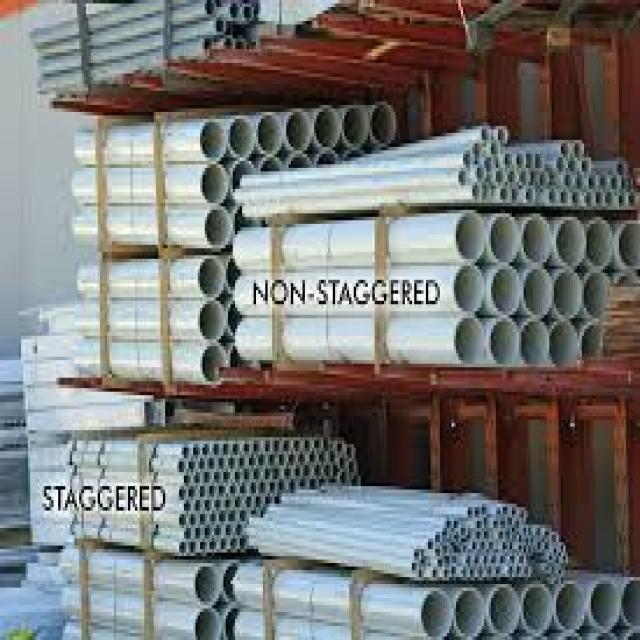pipe: (456, 211, 485, 260), (454, 266, 484, 313), (422, 591, 451, 639), (456, 318, 486, 364), (489, 216, 518, 263), (556, 219, 585, 265), (523, 216, 550, 265), (489, 318, 518, 363), (554, 270, 581, 318), (456, 590, 483, 638), (490, 587, 518, 633), (523, 586, 551, 632), (524, 269, 551, 316), (591, 582, 619, 627), (587, 219, 613, 267), (491, 268, 519, 312), (550, 325, 579, 366), (557, 585, 584, 629), (521, 321, 547, 365), (201, 162, 228, 203), (585, 274, 610, 318), (372, 103, 397, 144), (199, 300, 225, 339), (286, 110, 310, 152), (257, 114, 282, 154), (200, 121, 226, 159), (205, 207, 231, 245), (314, 108, 339, 147), (199, 256, 224, 295), (230, 117, 254, 157), (202, 343, 226, 383), (343, 106, 368, 143), (196, 565, 219, 605), (622, 579, 640, 626), (195, 610, 221, 640), (177, 512, 187, 530), (241, 6, 252, 21), (229, 4, 239, 20), (566, 159, 577, 173), (580, 158, 590, 173), (459, 168, 468, 184), (506, 169, 515, 185), (574, 175, 584, 189), (556, 157, 565, 172), (510, 187, 519, 202), (495, 171, 504, 186), (218, 509, 227, 524), (503, 154, 513, 167), (288, 452, 298, 465), (587, 173, 595, 189), (278, 452, 286, 468), (203, 38, 212, 52), (463, 151, 472, 165), (257, 453, 266, 467), (328, 451, 337, 465), (189, 513, 198, 527), (216, 20, 224, 35), (178, 487, 188, 499), (472, 143, 481, 156), (498, 127, 507, 140), (292, 439, 301, 452), (322, 437, 331, 450), (178, 540, 187, 553), (233, 523, 242, 536), (524, 189, 532, 203), (264, 438, 272, 452), (273, 438, 281, 452), (178, 459, 186, 473), (233, 469, 241, 483), (263, 467, 271, 481), (194, 527, 202, 541), (238, 508, 246, 522), (533, 154, 541, 168), (223, 38, 233, 49), (298, 453, 307, 465), (244, 496, 253, 508), (193, 443, 200, 458), (481, 127, 489, 140), (484, 157, 492, 170), (475, 167, 483, 180), (564, 175, 572, 188), (572, 192, 580, 205), (610, 177, 618, 190), (499, 189, 507, 202), (182, 444, 190, 457), (303, 438, 311, 451), (208, 457, 216, 470), (184, 500, 192, 513), (228, 509, 236, 522), (188, 485, 196, 498), (218, 484, 226, 497), (229, 484, 237, 497), (219, 538, 227, 551), (615, 162, 623, 175), (267, 481, 276, 492), (517, 172, 526, 183), (472, 184, 479, 198), (524, 154, 531, 168), (222, 442, 229, 456), (248, 454, 255, 468), (194, 471, 201, 485), (203, 470, 210, 484), (255, 494, 262, 508), (548, 190, 556, 202), (231, 442, 239, 454), (253, 441, 261, 453), (313, 438, 321, 450), (198, 458, 206, 470), (218, 458, 226, 470), (228, 458, 236, 470), (322, 464, 330, 476), (184, 528, 192, 540), (249, 481, 257, 493), (308, 477, 316, 489), (209, 539, 217, 551), (229, 538, 237, 550), (515, 155, 522, 168), (213, 443, 220, 456), (283, 438, 290, 451), (318, 452, 325, 465), (346, 445, 353, 458), (252, 468, 259, 481), (194, 499, 201, 512), (490, 142, 498, 153), (188, 460, 196, 471), (269, 454, 277, 465), (308, 451, 316, 462), (312, 465, 320, 476), (198, 513, 206, 524), (198, 485, 206, 496), (208, 485, 216, 496), (239, 484, 247, 495), (199, 540, 207, 551), (482, 185, 488, 199), (594, 193, 601, 205), (202, 444, 209, 456), (243, 442, 250, 454), (273, 466, 280, 478), (209, 512, 216, 524), (259, 481, 266, 493), (188, 540, 195, 552), (203, 525, 210, 537), (233, 497, 240, 509), (618, 194, 624, 207), (528, 173, 534, 186), (222, 471, 229, 482), (283, 467, 290, 478), (294, 467, 301, 478), (214, 498, 221, 509), (214, 526, 221, 537), (243, 469, 249, 481), (288, 478, 294, 490), (225, 524, 231, 536), (599, 176, 606, 186), (353, 465, 360, 475), (278, 481, 285, 491), (298, 479, 305, 489), (224, 498, 231, 508), (494, 157, 500, 168), (562, 143, 568, 154), (184, 473, 190, 484), (213, 471, 219, 482), (303, 465, 309, 476), (332, 466, 339, 475), (239, 456, 245, 466), (337, 442, 343, 452), (274, 495, 280, 505), (205, 500, 211, 510), (338, 456, 344, 466)
